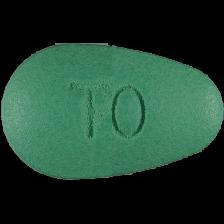21695-516: (0, 0, 224, 224)
